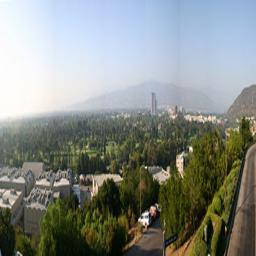car: (242, 141, 256, 156)
